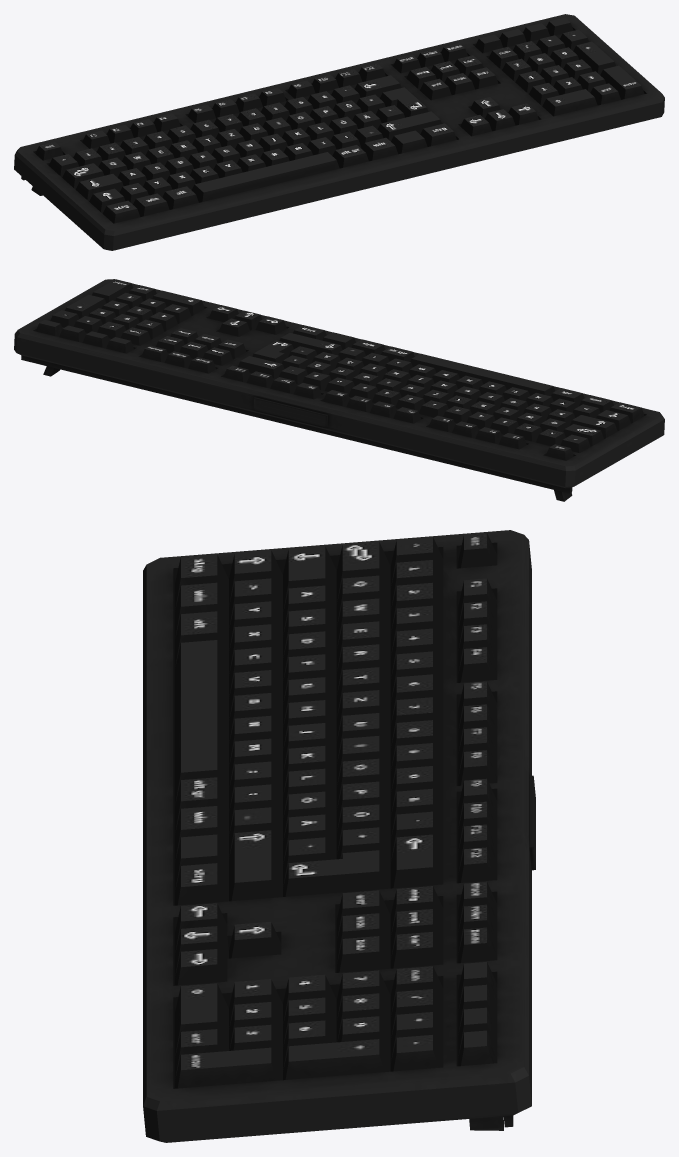
File: keyboard.obj
3 renders of one model, top to bottom at view 1: azimuth 30°, elevation 25°; view 2: azimuth 150°, elevation 25°; view 3: azimuth 270°, elevation 25°, orthographic. The views are drawn at different scales.
Parts seen in each view (by area): view 1: keyboard_mesh; view 2: keyboard_mesh; view 3: keyboard_mesh.
Part boxes in pixels (x1,y1,x2,y2): keyboard_mesh: [14, 14, 664, 250]; keyboard_mesh: [14, 279, 664, 501]; keyboard_mesh: [143, 530, 535, 1142].
Bounding box in the file's own units: 15.3 × 1.21 × 4.64.
1 material, 1 textured.
